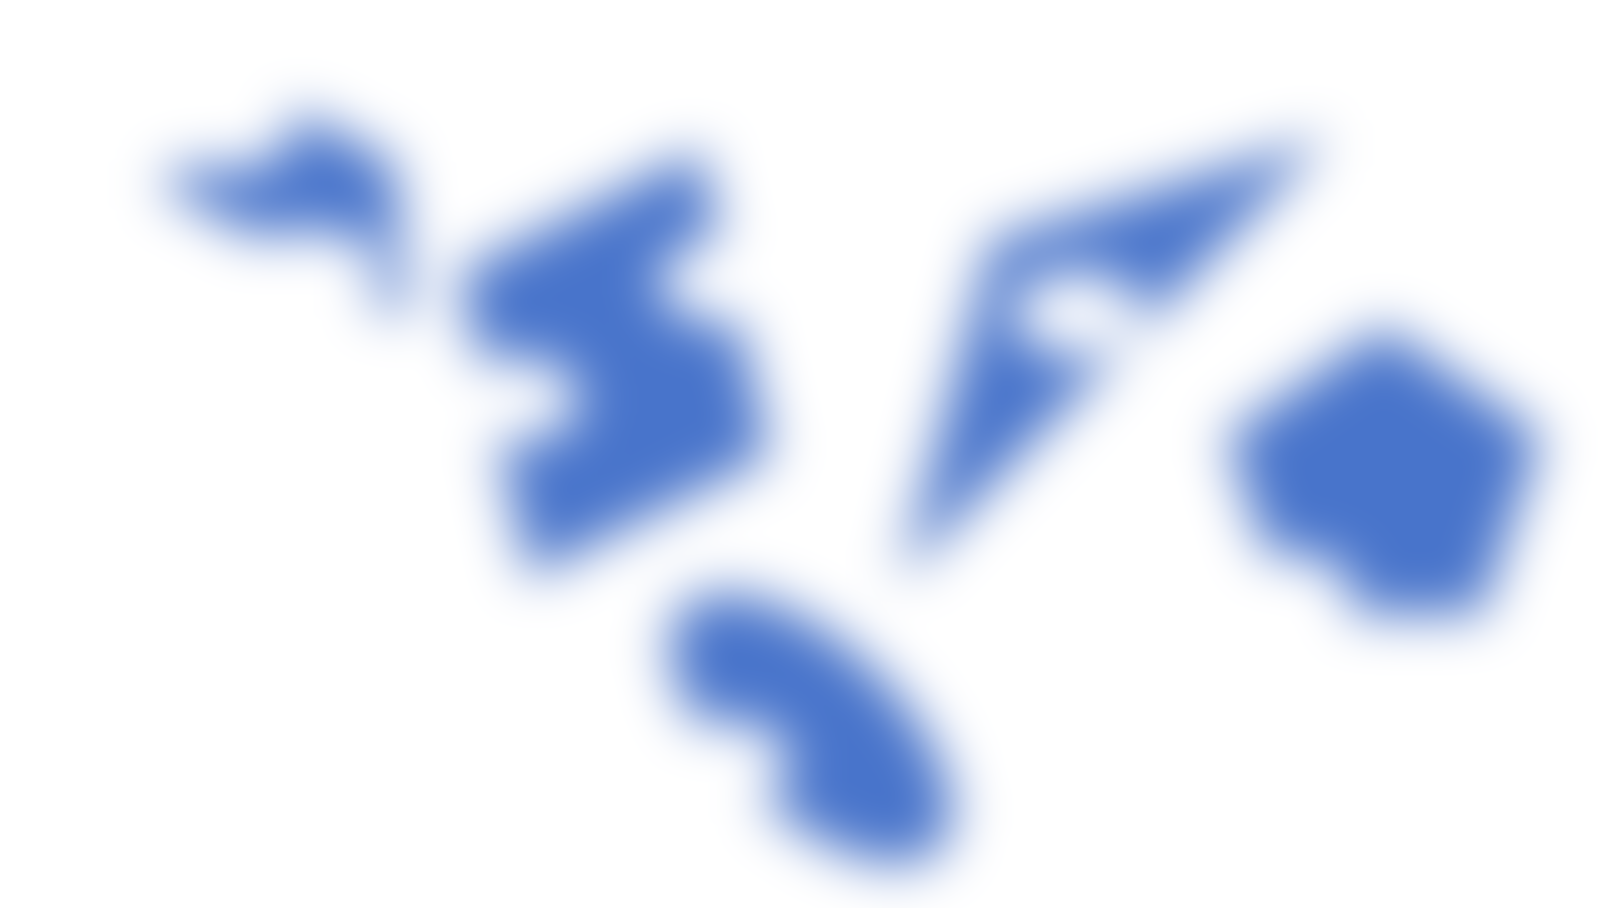circle: (665, 559, 990, 897)
parallelogram: (448, 144, 808, 577)
pentagon: (1227, 297, 1567, 652)
trapezium: (158, 94, 427, 362)
triangle: (895, 109, 1315, 571)
